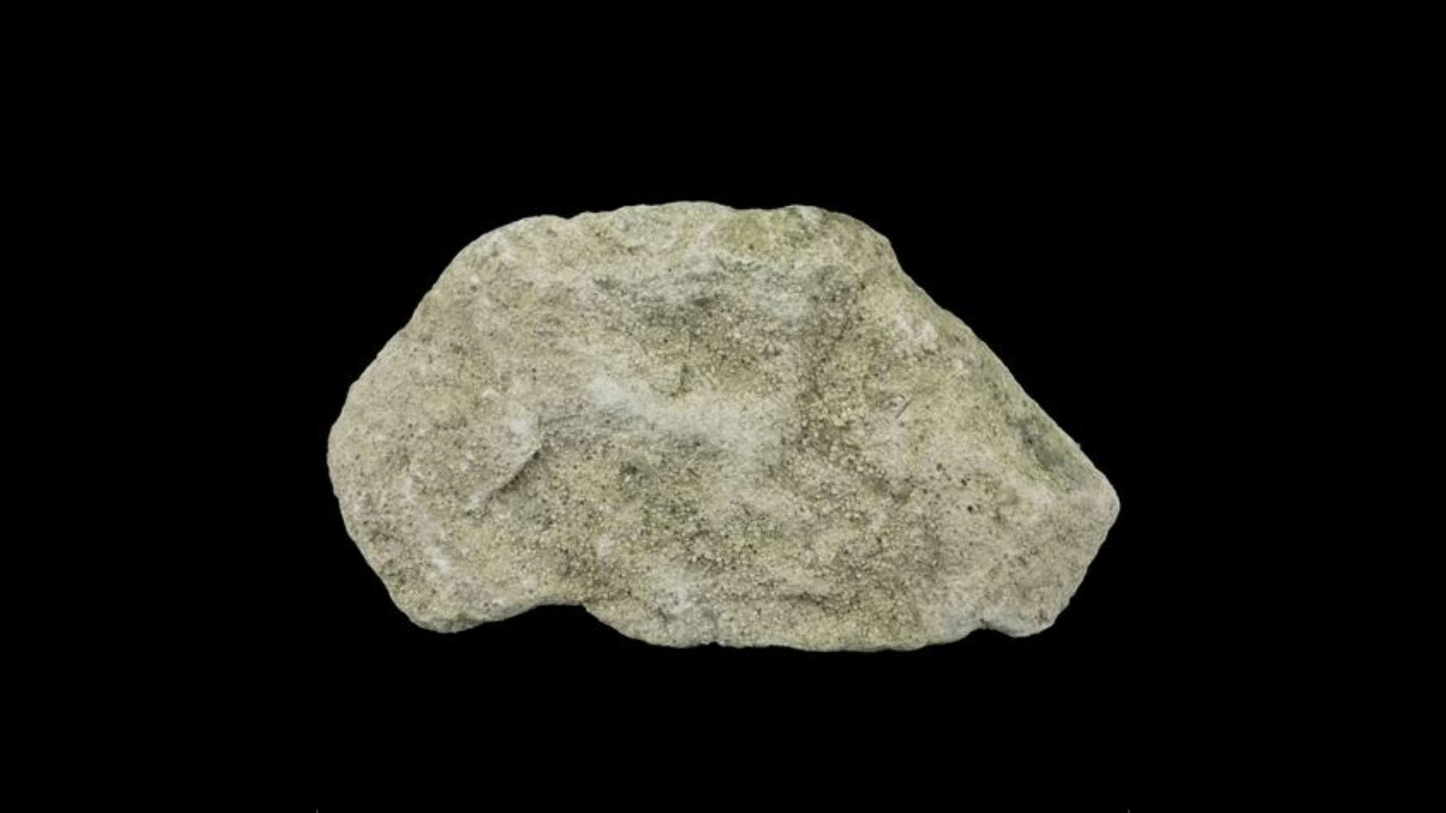rock: (332, 202, 1116, 648)
